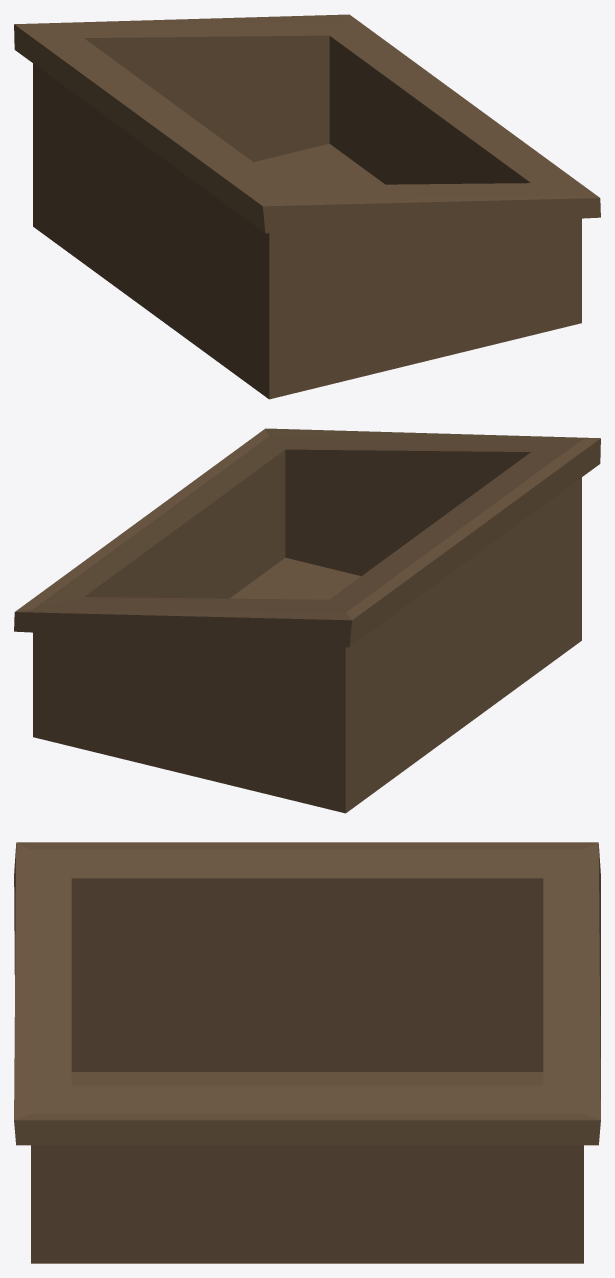
3 renders of one model, top to bottom at view 1: azimuth 30°, elevation 25°; view 2: azimuth 150°, elevation 25°; view 3: azimuth 270°, elevation 25°, orthographic. The views are drawn at different scales.
Visible parts, largest first — view 1: crate02; view 2: crate02; view 3: crate02.
Boxes of the visible parts, x1=… form: crate02: x1=14, y1=14, x2=600, y2=399; crate02: x1=14, y1=428, x2=600, y2=813; crate02: x1=14, y1=842, x2=600, y2=1263.
Bounding box in the file's own units: 0.4486 × 0.2546 × 0.5762.
1 material, 1 textured.
